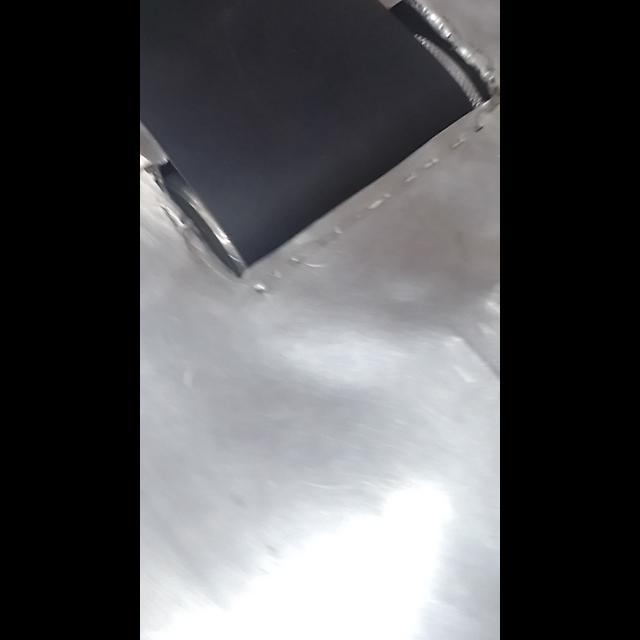greenBox: (140, 0, 232, 22)
